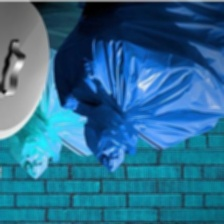plastic_bag: (51, 0, 224, 175), (4, 0, 112, 182)
